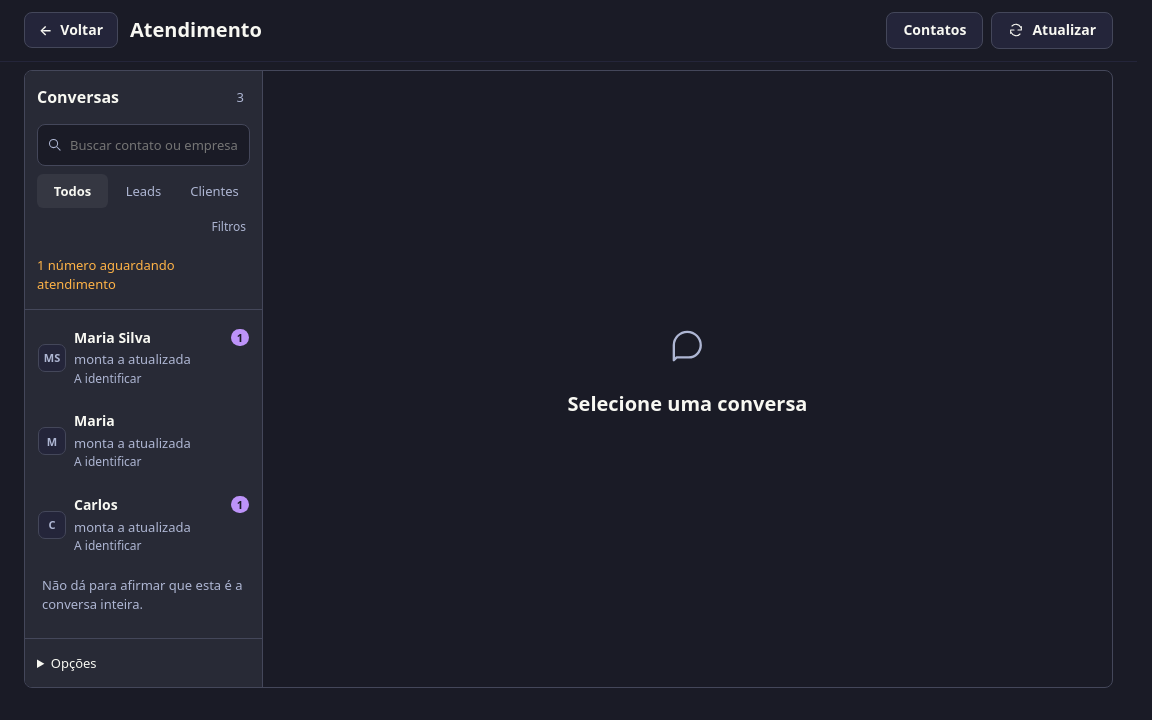
Scenario: vincular — a fila esvazia por aqui › na conversa vinculada o formulário de vínculo NÃO aparece
The width and height of the screenshot is (1152, 720).
Click the button with test id "conversa-cv1" at (144, 358), box [30,317,257,398]
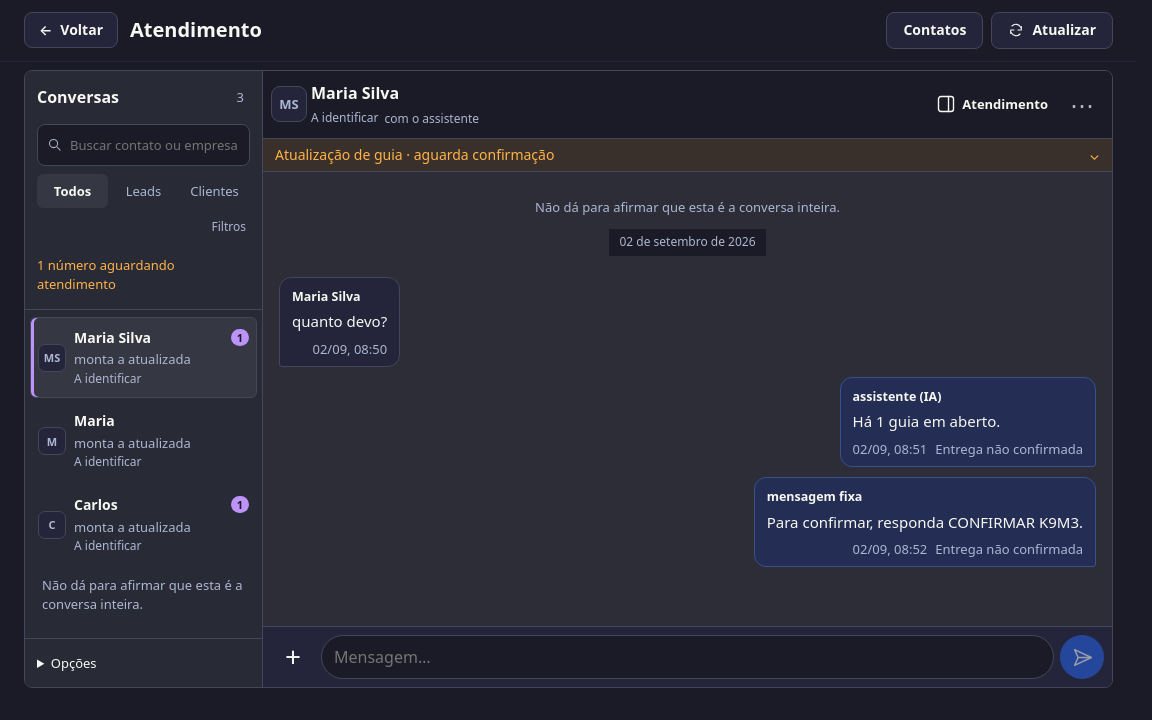
Now the element with test id "fio" is shown
